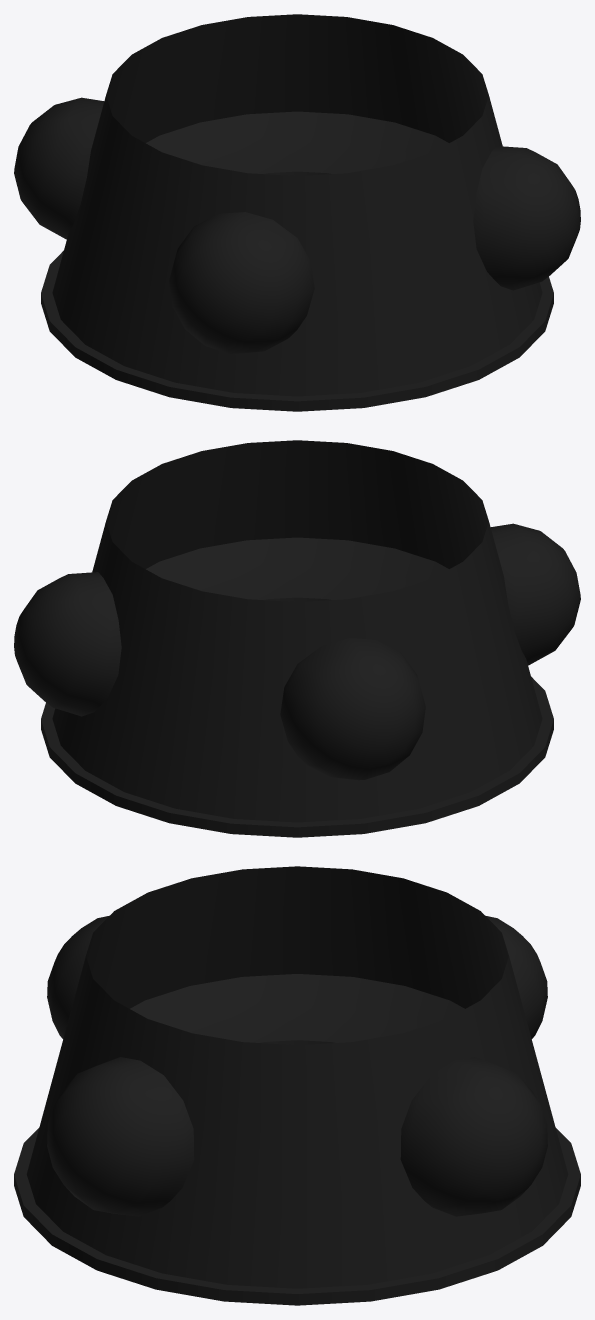
The model's file is virgo_engine_s1_1.obj.
3 renders of one model, top to bottom at view 1: azimuth 30°, elevation 25°; view 2: azimuth 150°, elevation 25°; view 3: azimuth 270°, elevation 25°, orthographic. The views are drawn at different scales.
Visible parts, largest first — view 1: mesh; view 2: mesh; view 3: mesh.
Part boxes in pixels (x1,y1,x2,y2): mesh: [14, 14, 580, 411]; mesh: [14, 440, 580, 837]; mesh: [14, 866, 580, 1305].
Bounding box in the file's own units: 1.67 × 0.75 × 1.67.
